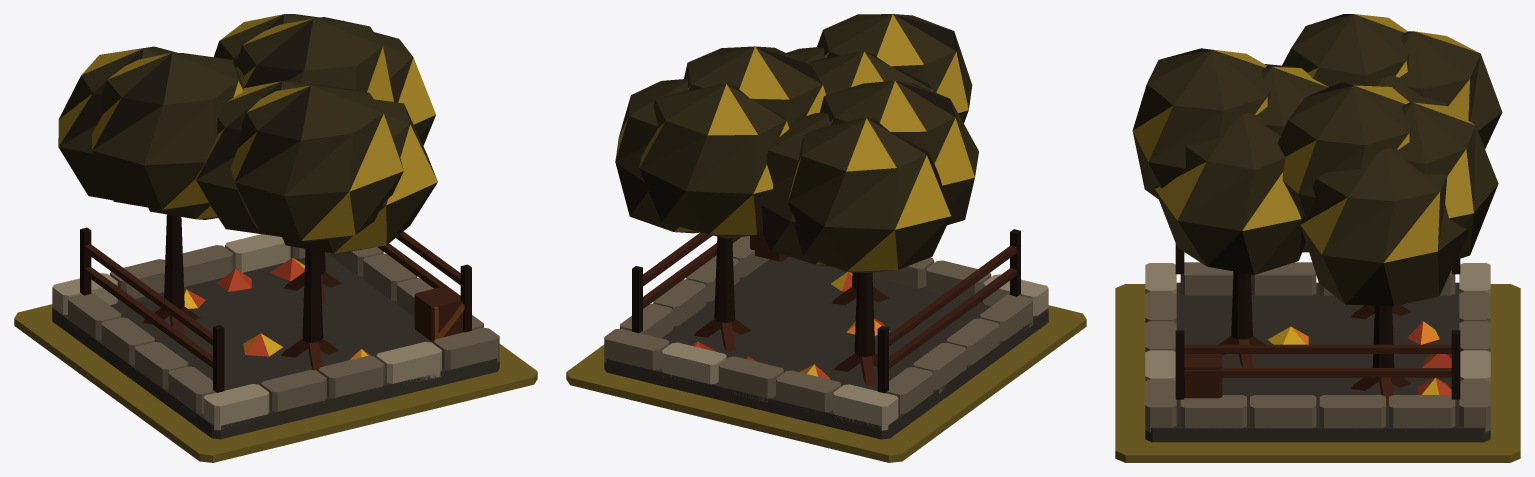
File: grove_t6.glb
The picture shows the model from 3 angles, left to right: view 1: azimuth 30°, elevation 25°; view 2: azimuth 150°, elevation 25°; view 3: azimuth 270°, elevation 25°; orthographic projection. The views are drawn at different scales.
Visible parts, largest first — view 1: MMR | grove | T06 Architecture.001, MMR | grove | Tier 06 Ground.001, MMR | grove | T06 Autumn Dressing.001; view 2: MMR | grove | T06 Architecture.001, MMR | grove | Tier 06 Ground.001, MMR | grove | T06 Autumn Dressing.001; view 3: MMR | grove | T06 Architecture.001, MMR | grove | Tier 06 Ground.001, MMR | grove | T06 Autumn Dressing.001.
Part boxes in pixels (left/top/right/bottom): MMR | grove | T06 Architecture.001: left=52, top=14, right=499, bottom=439; MMR | grove | Tier 06 Ground.001: left=14, top=304, right=537, bottom=462; MMR | grove | T06 Autumn Dressing.001: left=184, top=257, right=371, bottom=360; MMR | grove | T06 Architecture.001: left=604, top=14, right=1048, bottom=439; MMR | grove | Tier 06 Ground.001: left=566, top=305, right=1086, bottom=462; MMR | grove | T06 Autumn Dressing.001: left=691, top=272, right=889, bottom=379; MMR | grove | T06 Architecture.001: left=1132, top=14, right=1502, bottom=442; MMR | grove | Tier 06 Ground.001: left=1115, top=284, right=1520, bottom=462; MMR | grove | T06 Autumn Dressing.001: left=1267, top=321, right=1451, bottom=394.
Size of the model in its own units: 2.43 by 2.04 by 2.35.
Materials: 1 (1 with a texture image).
